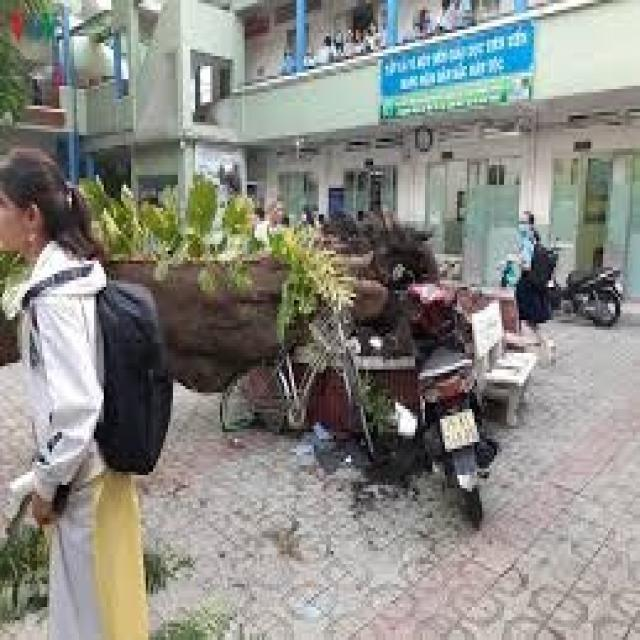fallen_object: (0, 181, 514, 419)
